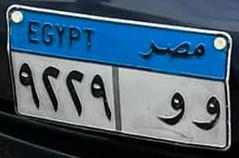2: (65, 65, 89, 118), (44, 63, 59, 115)
9: (90, 65, 114, 128), (19, 65, 41, 110)
و: (190, 84, 227, 140), (150, 81, 189, 132)
